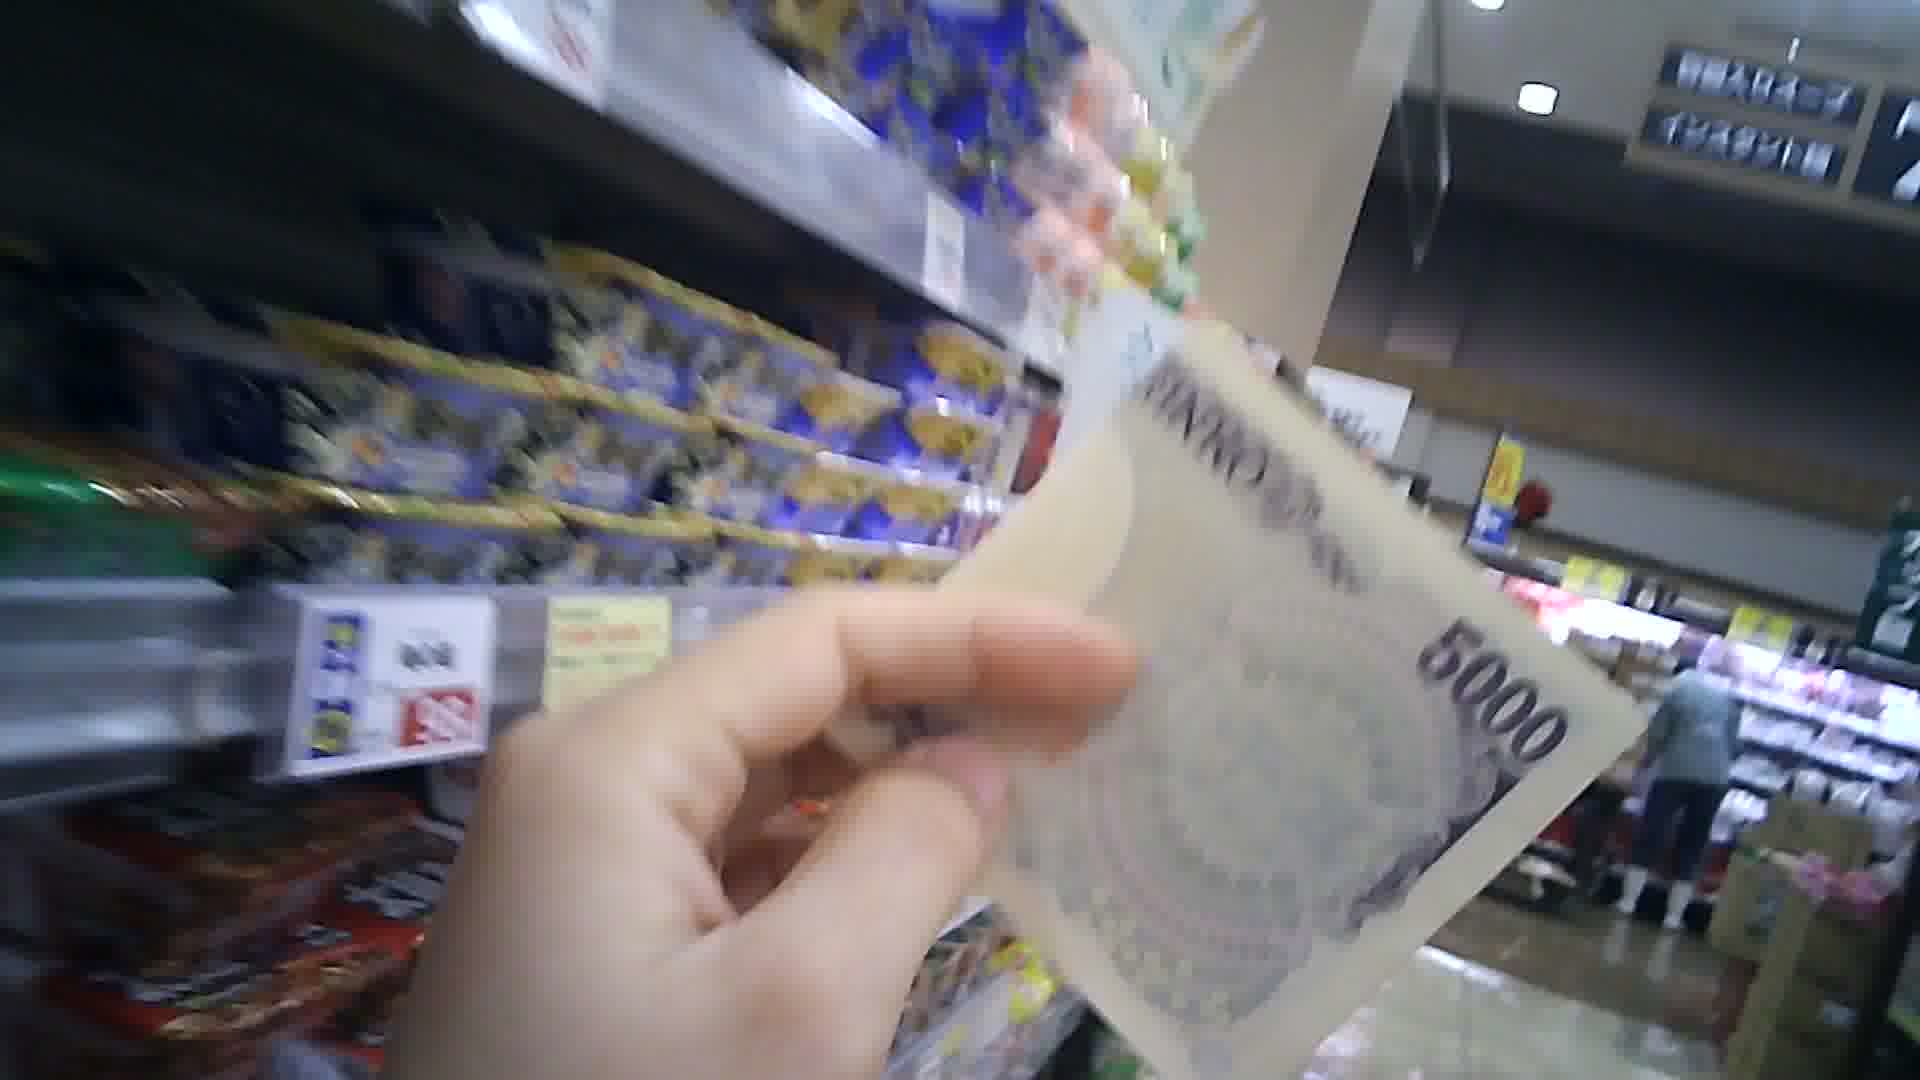5,000 Yen: (847, 293, 1631, 1073)
